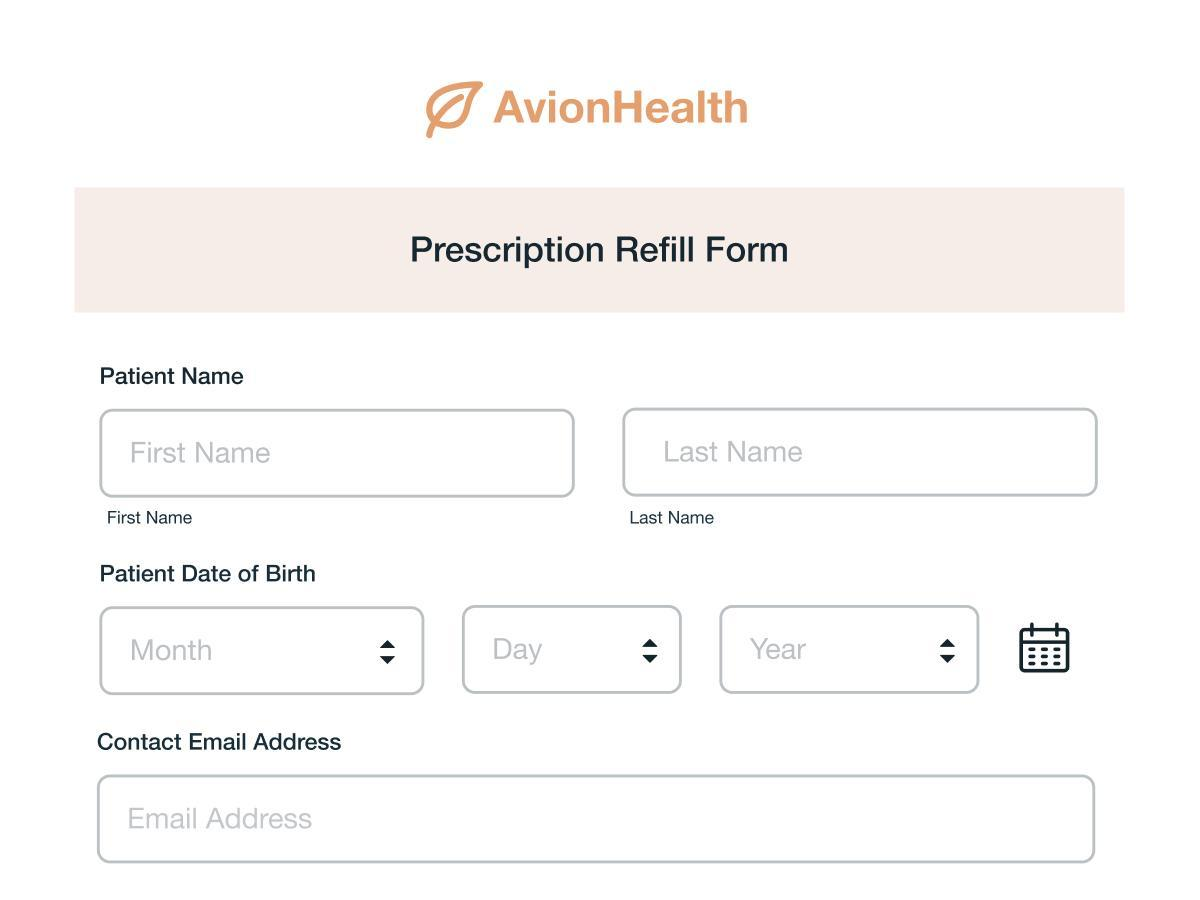dropdown: (98, 606, 423, 694), (723, 606, 980, 694), (465, 607, 682, 694)
icon: (1016, 616, 1082, 680)
input: (95, 773, 1101, 867), (103, 408, 575, 499), (622, 410, 1099, 496)
label: (97, 564, 317, 590), (99, 366, 247, 390)
